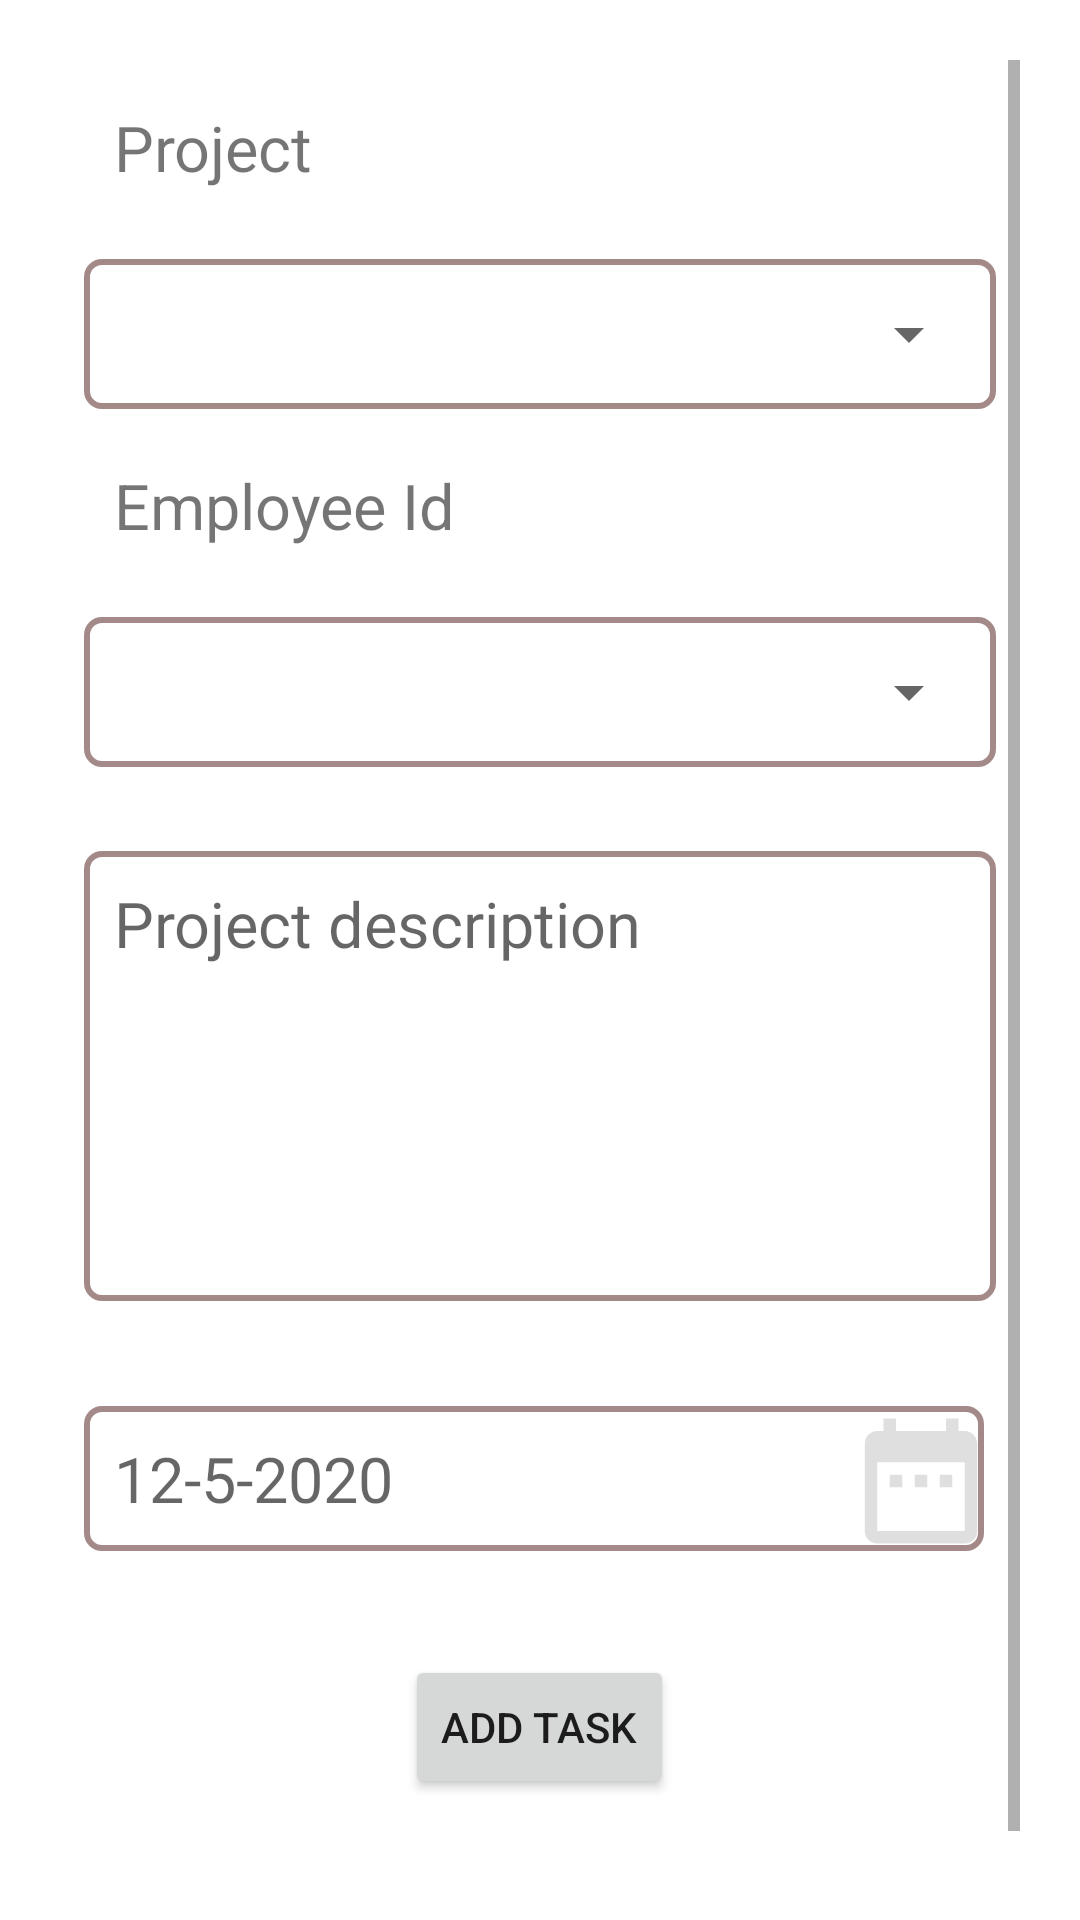

Where to tap for icons on this 1080 × 1920 app screen, as point (x, y):
date range: point (921, 1481)
